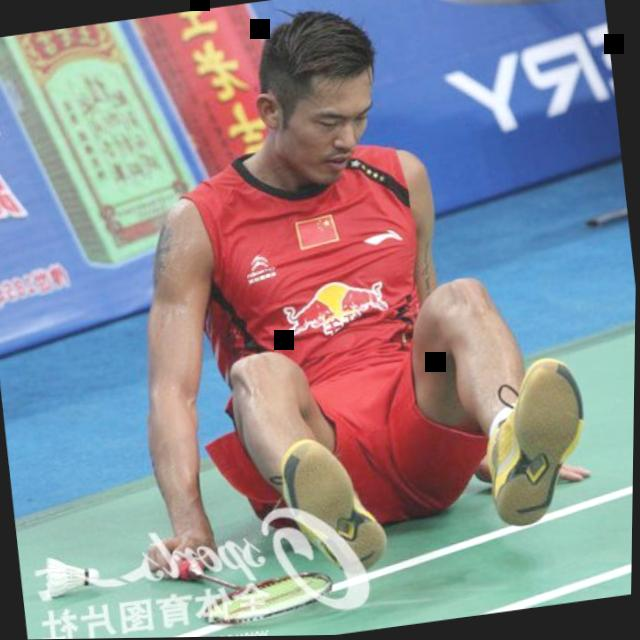Fall-Detected: (37, 0, 602, 617)
